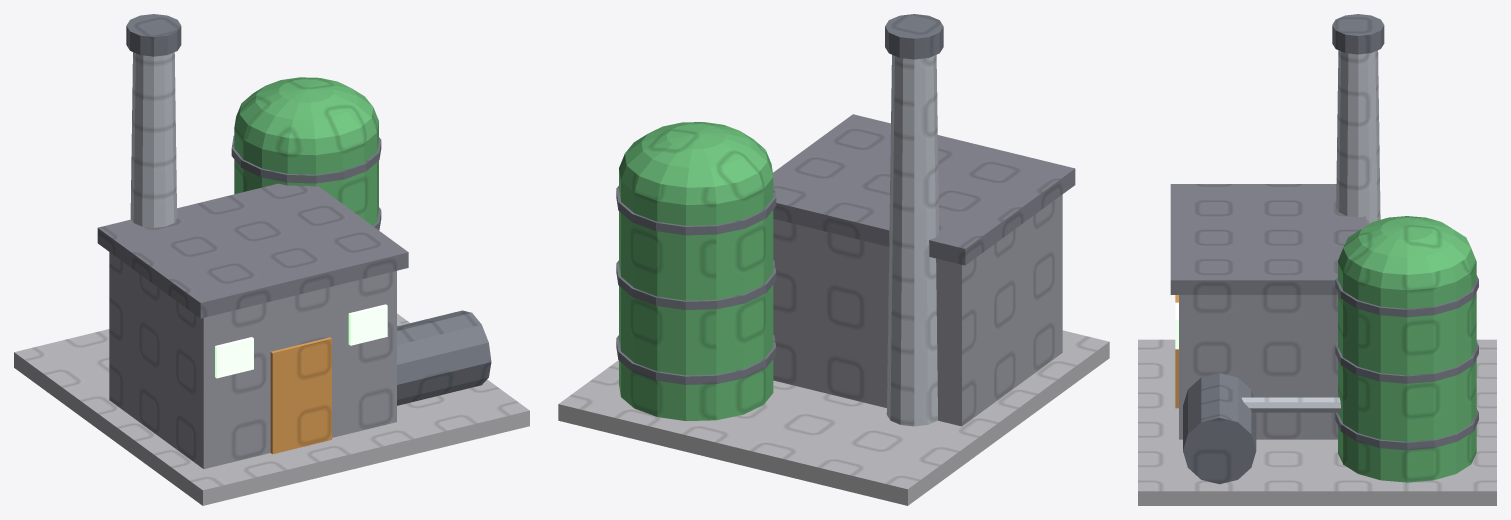
File: Plante_Bio.glb
The picture shows the model from 3 angles, left to right: view 1: azimuth 30°, elevation 25°; view 2: azimuth 150°, elevation 25°; view 3: azimuth 270°, elevation 25°; orthographic projection. The views are drawn at different scales.
Visible parts, largest first — view 1: Plante_Bio; view 2: Plante_Bio; view 3: Plante_Bio.
Part boxes in pixels (x1,y1,x2,y2): Plante_Bio: [14, 14, 529, 505]; Plante_Bio: [558, 14, 1109, 505]; Plante_Bio: [1138, 14, 1496, 505].
Size of the model in its own units: 4.4 by 4.88 by 4.4.
8 materials, 7 textured.
